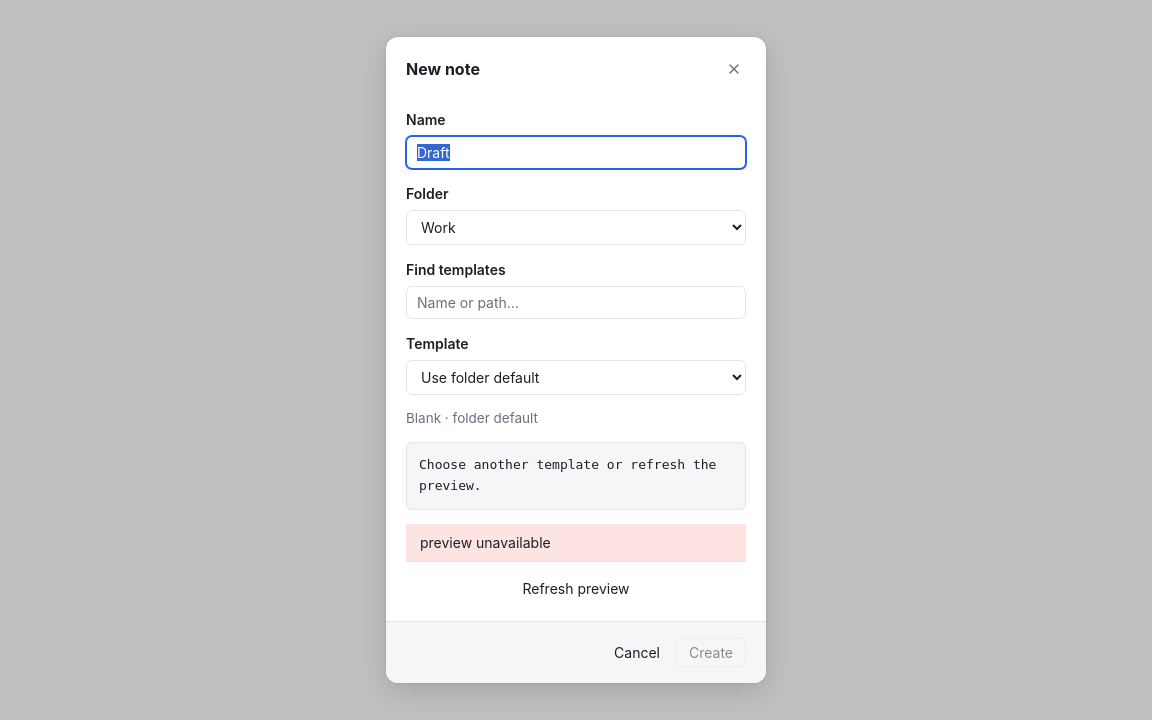
Scenario: reports a preview failure and refreshes it without losing the note details
Check: the message reads "preview unavailable", box [420,534,551,551]
Check: the text "Choose another template or refresh the preview." is shown, box [419,456,733,497]
Click the button "Refresh preview" at (576, 589), box [406,576,746,601]
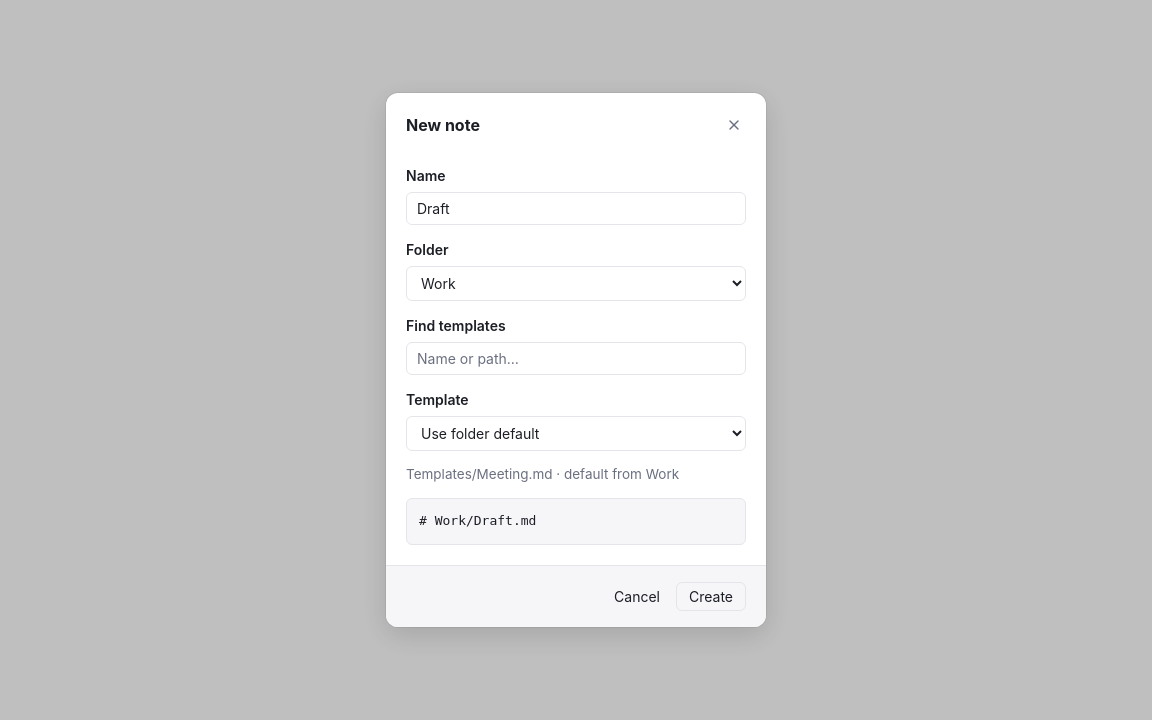
Check: the text "# Work/Draft.md" is shown, box [419,513,536,528]
